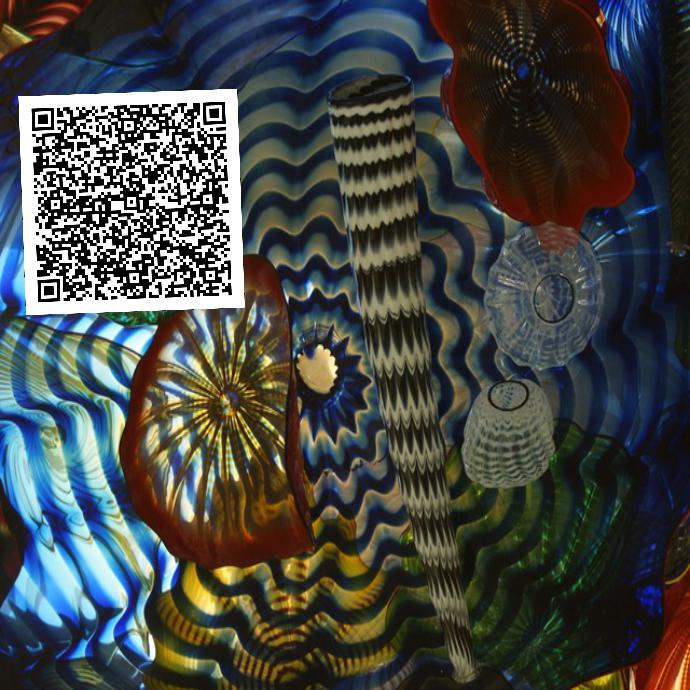qr_code: (18, 88, 244, 314)
